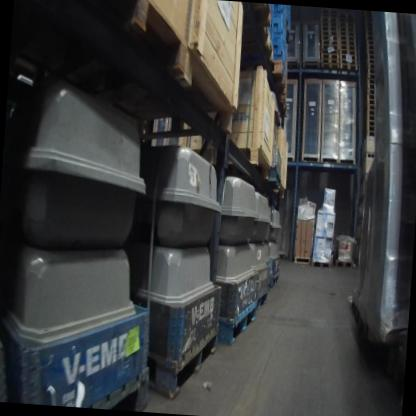pallet: (145, 318, 220, 404), (90, 361, 151, 411), (217, 296, 258, 348), (241, 24, 275, 64), (241, 2, 272, 27), (268, 60, 288, 95), (268, 165, 282, 189), (275, 94, 288, 118), (256, 290, 268, 311), (311, 260, 332, 270), (335, 259, 353, 269), (285, 20, 292, 44), (361, 152, 375, 163), (339, 63, 358, 71), (320, 53, 340, 60), (340, 54, 357, 62), (339, 26, 356, 34), (321, 62, 340, 69), (273, 269, 280, 287), (320, 8, 338, 15), (340, 59, 358, 66), (339, 49, 357, 56), (339, 44, 357, 51), (339, 40, 357, 47), (338, 21, 356, 28), (339, 31, 356, 38), (320, 48, 339, 54), (320, 44, 339, 50), (321, 58, 339, 64), (321, 39, 339, 45), (321, 35, 339, 41), (321, 30, 339, 36), (321, 26, 339, 32), (267, 276, 273, 293), (321, 22, 338, 28), (321, 17, 338, 23), (321, 13, 338, 19), (339, 36, 356, 42), (287, 63, 300, 70), (366, 125, 375, 132), (367, 93, 375, 100), (367, 83, 375, 90), (367, 63, 375, 70), (366, 120, 375, 126), (366, 115, 375, 121), (366, 131, 374, 137), (367, 109, 375, 115), (367, 104, 375, 110), (367, 99, 375, 105), (367, 89, 375, 95), (367, 79, 375, 85), (367, 74, 375, 80), (367, 69, 375, 75), (367, 59, 375, 65), (366, 40, 374, 46), (366, 35, 374, 41), (367, 54, 374, 60), (367, 49, 374, 55), (367, 45, 374, 51)
small_load_carrier: (272, 15, 286, 42), (272, 37, 285, 62), (273, 4, 285, 20)
